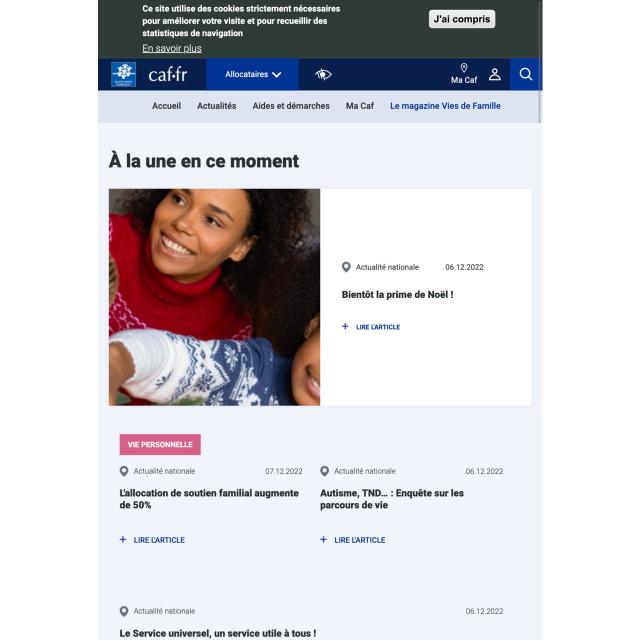logo: (110, 61, 136, 87)
navigation: (150, 99, 504, 114)
